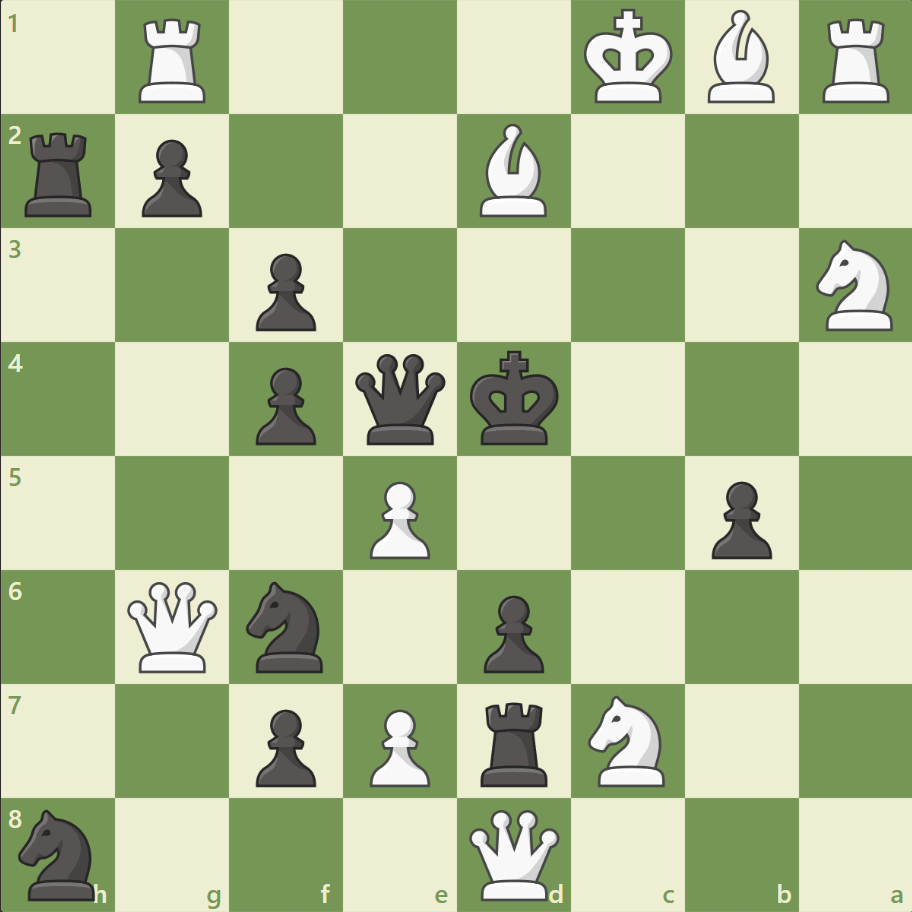B: (698, 6, 782, 109), (471, 120, 555, 222)
K: (579, 4, 679, 112)
N: (579, 688, 676, 791), (806, 234, 903, 337)
P: (361, 700, 435, 791), (361, 473, 435, 564)
Q: (124, 576, 223, 676), (464, 804, 563, 903)
R: (814, 12, 897, 109), (133, 12, 215, 109)
k: (465, 344, 565, 452)
n: (11, 802, 108, 904), (238, 575, 335, 677)
p: (247, 700, 322, 791), (474, 586, 549, 677), (701, 473, 776, 564), (247, 359, 322, 450), (247, 246, 322, 337), (133, 132, 208, 223)
q: (351, 349, 450, 449)
r: (473, 693, 556, 790), (19, 125, 102, 222)
